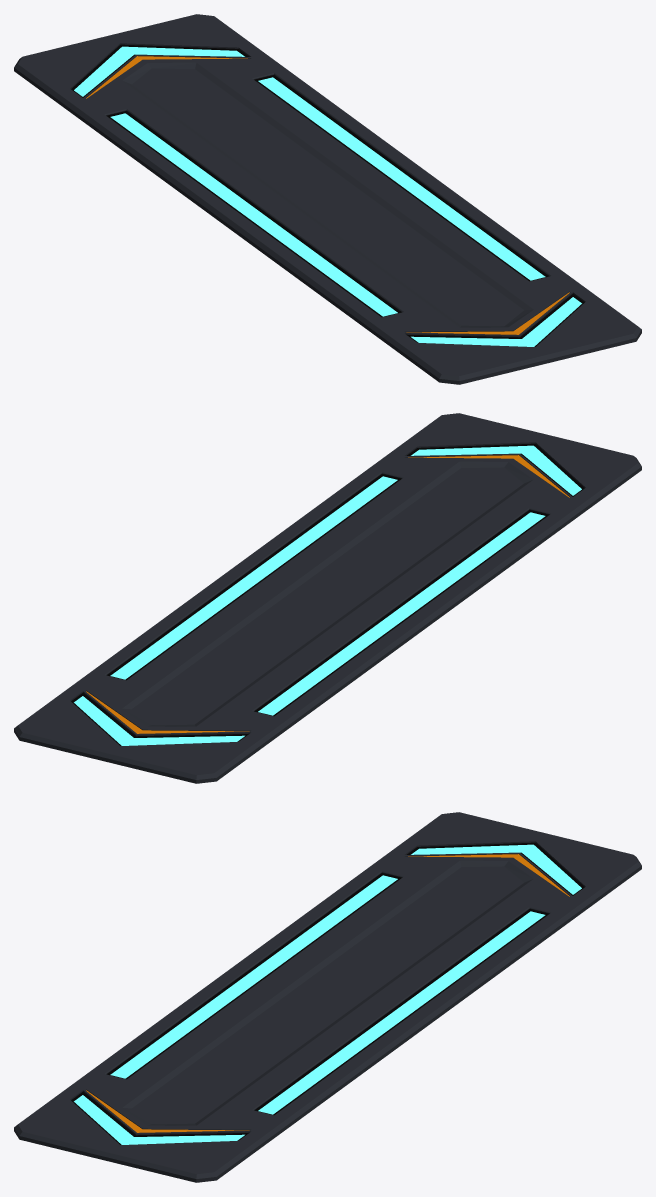
Rendered from SM_Floor_Marker_Rectangular.fbx.
The picture shows the model from 3 angles, top to bottom: view 1: azimuth 30°, elevation 25°; view 2: azimuth 150°, elevation 25°; view 3: azimuth 330°, elevation 25°; orthographic projection.
Visible parts, largest first — view 1: SM_Floor_Marker_Rectangular; view 2: SM_Floor_Marker_Rectangular; view 3: SM_Floor_Marker_Rectangular.
Part boxes in pixels (<box>): SM_Floor_Marker_Rectangular: <box>14,14,641,384</box>; SM_Floor_Marker_Rectangular: <box>14,413,641,783</box>; SM_Floor_Marker_Rectangular: <box>14,812,641,1182</box>.
Bounding box in the file's own units: 10 × 0.3283 × 37.62.
